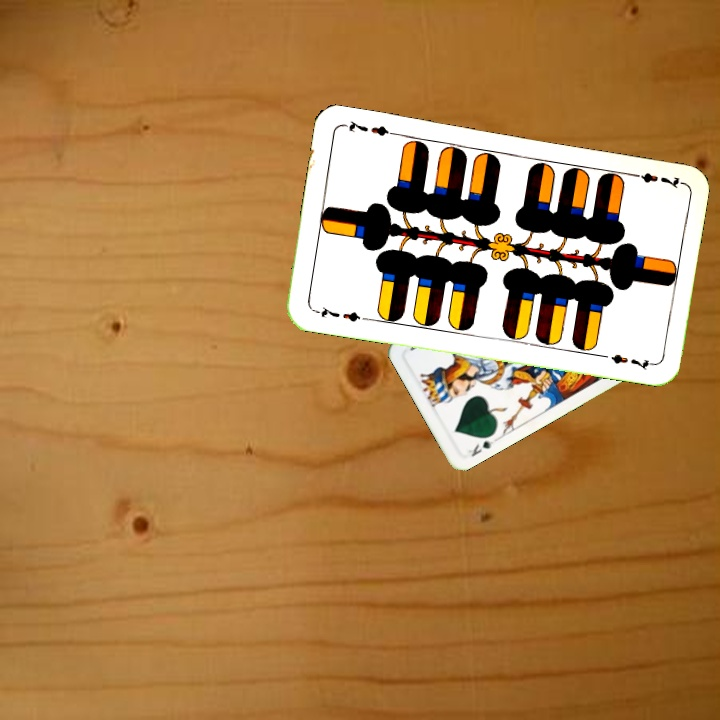E7: (310, 302, 369, 325), (625, 168, 684, 191)
GK: (464, 434, 499, 459)
